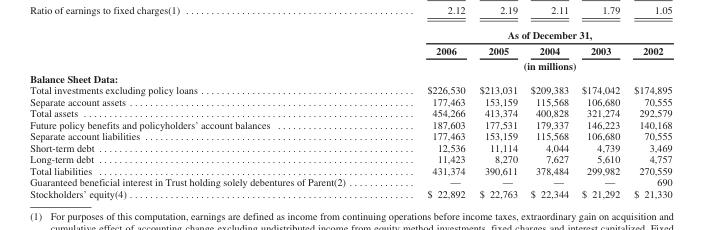table: (29, 28, 671, 198)
table column: (29, 28, 385, 198), (385, 28, 471, 198), (471, 28, 523, 198), (574, 28, 626, 198), (523, 28, 574, 198), (626, 28, 671, 198)
table column header: (29, 28, 671, 71)
table projected row header: (29, 71, 671, 84)
table row: (29, 42, 671, 57), (29, 28, 671, 42), (29, 57, 671, 71), (29, 71, 671, 84), (29, 95, 671, 107), (29, 129, 671, 141), (29, 152, 671, 164), (29, 175, 671, 187), (29, 84, 671, 95), (29, 107, 671, 118), (29, 118, 671, 129), (29, 141, 671, 152), (29, 164, 671, 175), (29, 187, 671, 198)
table spanning cell: (385, 28, 671, 42), (385, 57, 671, 71)
